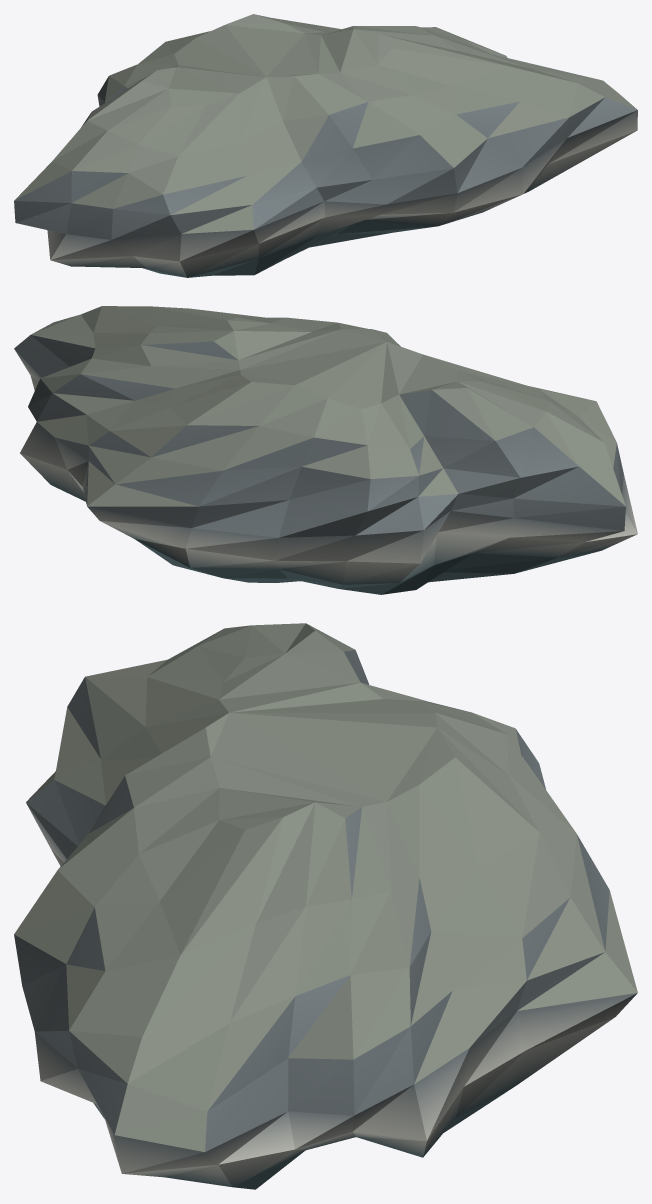
File: rock-skerry.glb
The picture shows the model from 3 angles, top to bottom: view 1: azimuth 30°, elevation 25°; view 2: azimuth 150°, elevation 25°; view 3: azimuth 270°, elevation 25°; orthographic projection. The views are drawn at different scales.
Parts seen in each view (by area): view 1: rock-skerry; view 2: rock-skerry; view 3: rock-skerry.
Part boxes in pixels (x1=…): rock-skerry: x1=14, y1=14, x2=637, y2=277; rock-skerry: x1=14, y1=306, x2=637, y2=594; rock-skerry: x1=14, y1=623, x2=637, y2=1189.
Bounding box in the file's own units: 10.9 × 3.49 × 6.11.
